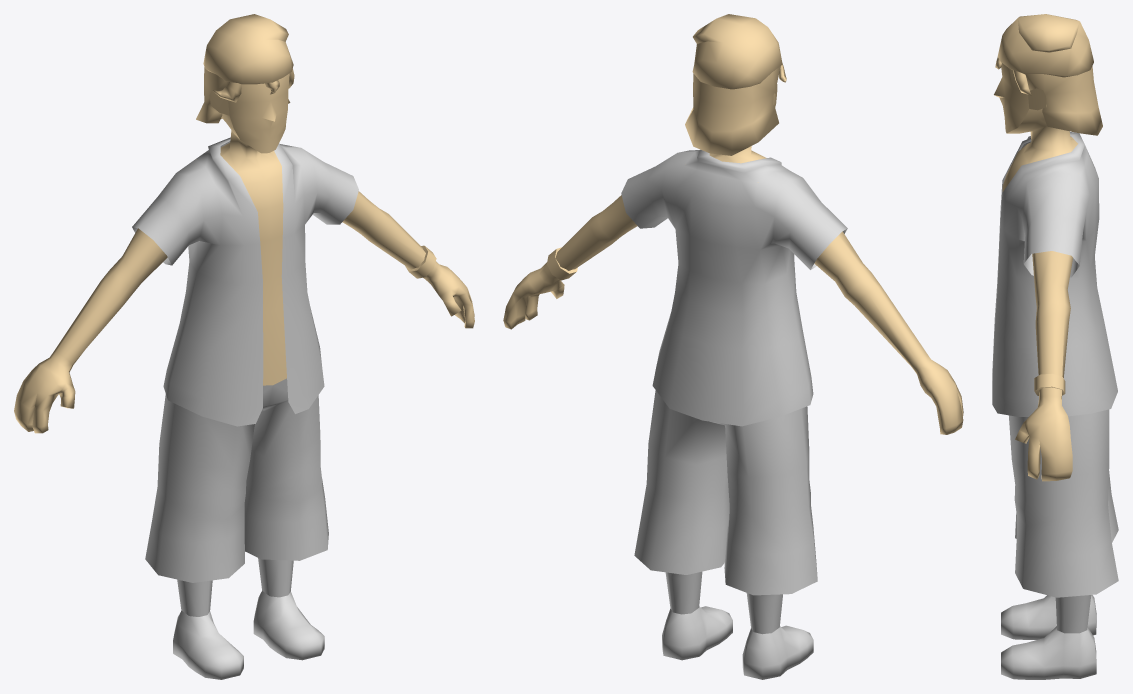
3 renders of one model, left to right at view 1: azimuth 30°, elevation 25°; view 2: azimuth 150°, elevation 25°; view 3: azimuth 270°, elevation 25°, orthographic.
Visible parts, largest first — view 1: Cylinder.031, Cylinder.010, Cylinder.030, Cylinder.029, Cylinder.032, Cylinder.028, Cylinder.033; view 2: Cylinder.031, Cylinder.010, Cylinder.030, Cylinder.029, Cylinder.033, Cylinder.032, Cylinder.028; view 3: Cylinder.031, Cylinder.010, Cylinder.030, Cylinder.029, Cylinder.032, Cylinder.033, Cylinder.028, Cylinder.037, Cylinder.036.
Boxes of the visible parts, box(x1,y1,x2,y2) form: Cylinder.031: box(132, 137, 358, 426); Cylinder.010: box(145, 378, 328, 582); Cylinder.030: box(14, 73, 474, 433); Cylinder.029: box(173, 591, 324, 679); Cylinder.032: box(203, 14, 293, 84); Cylinder.028: box(177, 558, 293, 616); Cylinder.033: box(196, 67, 290, 123); Cylinder.031: box(621, 149, 847, 426); Cylinder.010: box(634, 390, 817, 595); Cylinder.030: box(503, 84, 963, 434); Cylinder.029: box(662, 606, 813, 679); Cylinder.033: box(685, 66, 780, 155); Cylinder.032: box(692, 14, 782, 89); Cylinder.028: box(665, 571, 782, 634); Cylinder.031: box(992, 132, 1117, 416); Cylinder.010: box(1009, 409, 1118, 597); Cylinder.030: box(994, 63, 1077, 481); Cylinder.029: box(1001, 595, 1096, 679); Cylinder.032: box(997, 14, 1093, 77); Cylinder.033: box(1025, 66, 1102, 135); Cylinder.028: box(1055, 595, 1091, 633); Cylinder.037: box(1034, 373, 1065, 395); Cylinder.036: box(1013, 70, 1031, 95).
Size of the model in its own units: 131 by 174 by 31.5.
